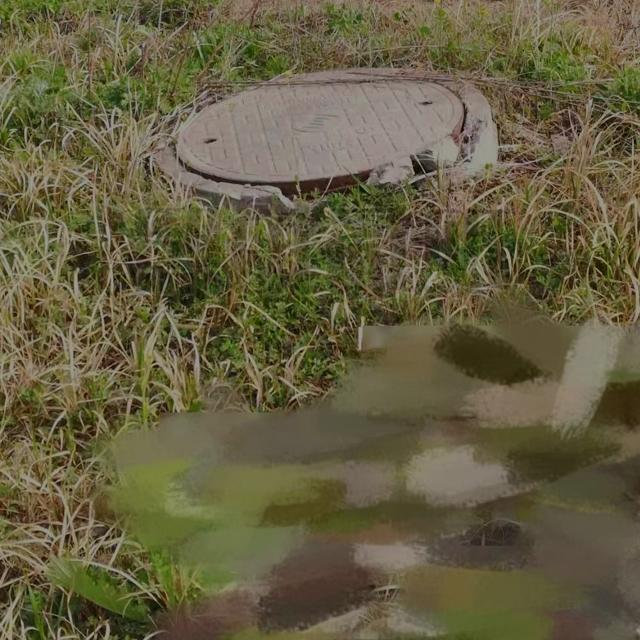circle: (130, 58, 495, 215)
